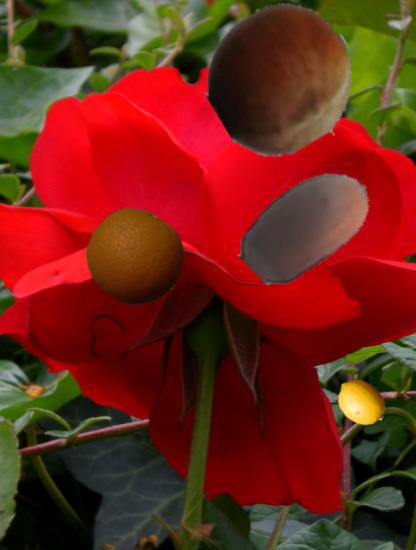Hazelnut: (236, 153, 379, 296)
Lemon: (335, 376, 388, 429)
Nut: (209, 6, 357, 154)
Orange: (86, 208, 185, 307)
